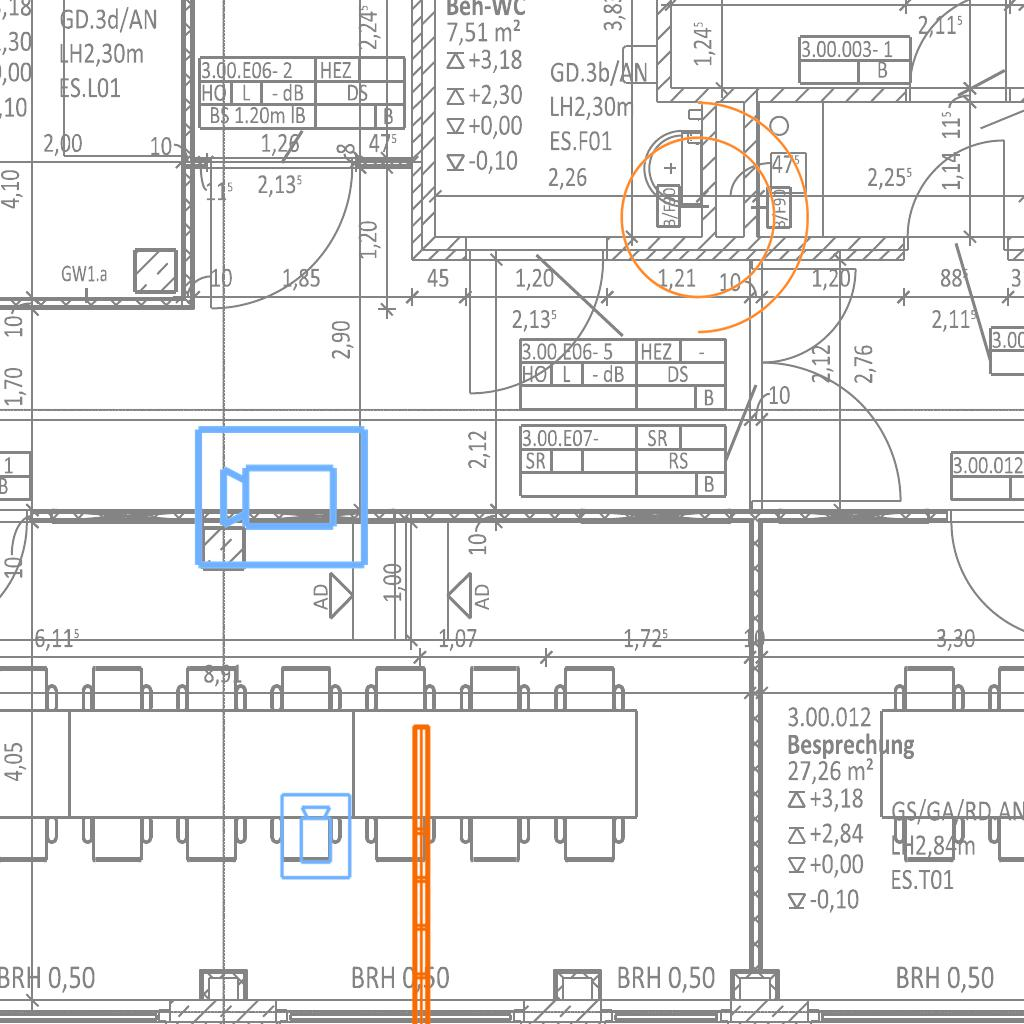Ambulanz_Pendelleuchte_LED: (406, 719, 462, 1024)
KFO_Kamera_mit_Festobjektiv: (191, 419, 373, 573), (278, 791, 355, 882)
Scheinwerfer_fuer_Alarmbeleuchtung: (595, 79, 820, 343)
